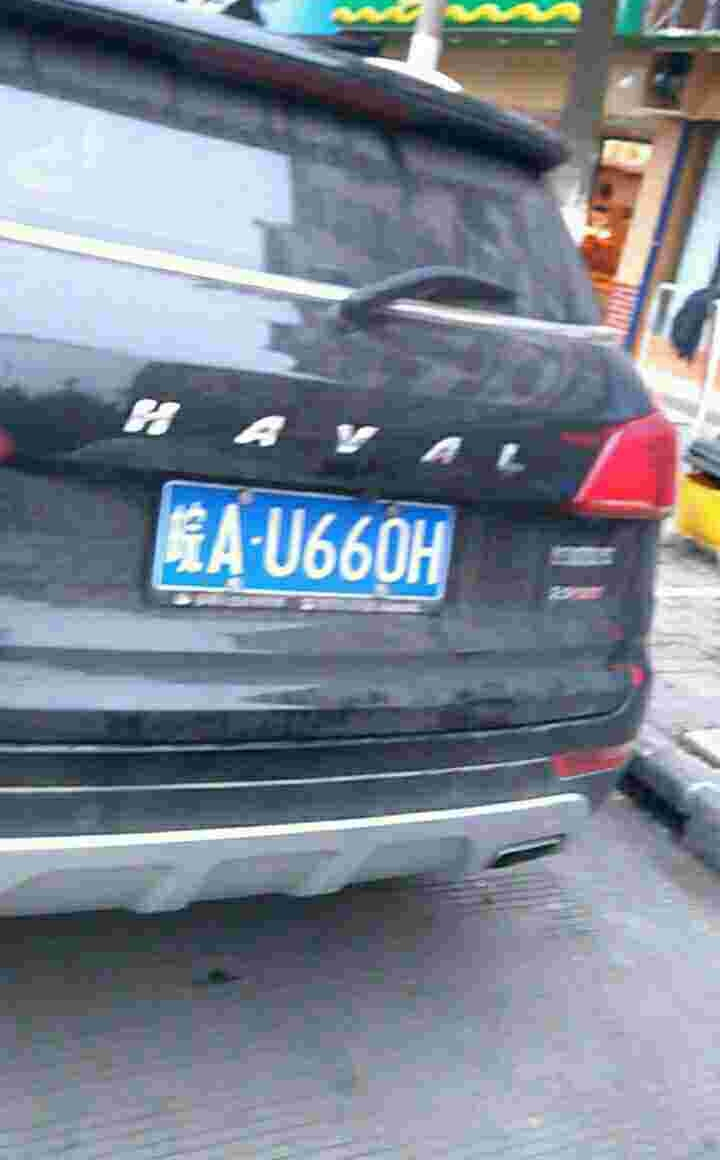license_plate: (170, 492, 458, 604)
